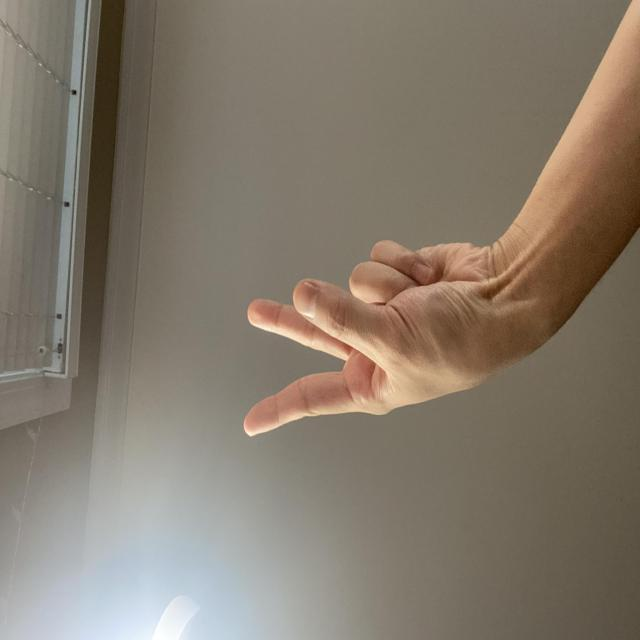K: (148, 320, 314, 640)
